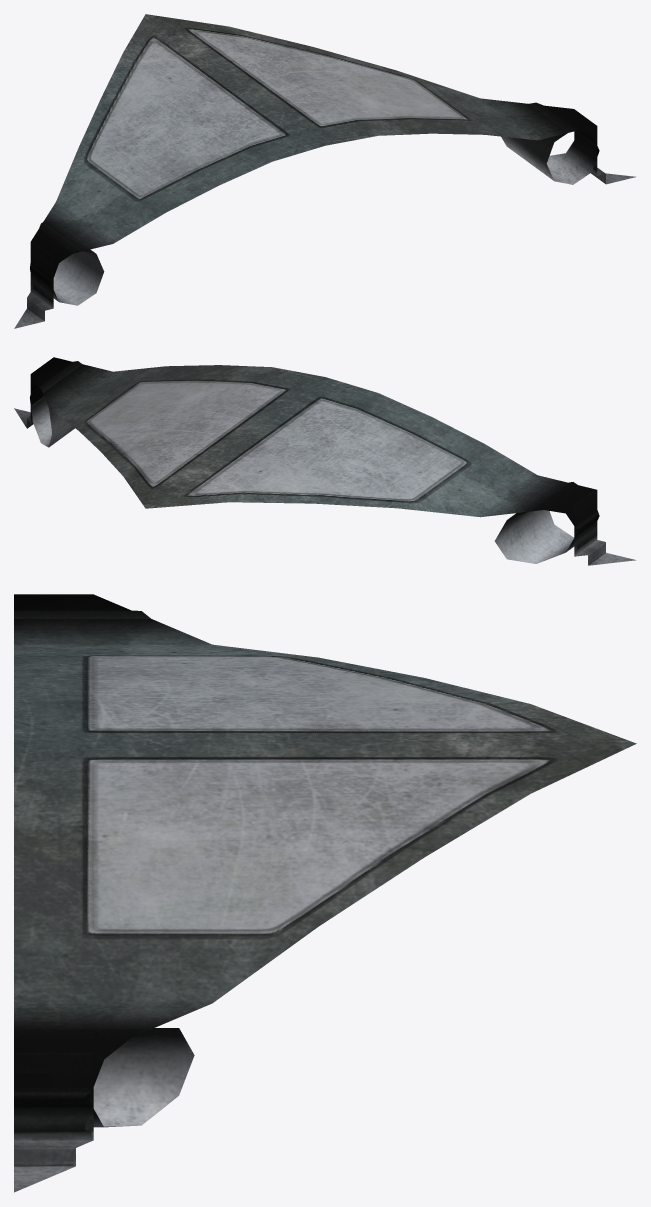
Rendered from Roof3.fbx.
3 renders of one model, top to bottom at view 1: azimuth 30°, elevation 25°; view 2: azimuth 150°, elevation 25°; view 3: azimuth 270°, elevation 25°, orthographic. The views are drawn at different scales.
Parts seen in each view (by area): view 1: Roof3; view 2: Roof3; view 3: Roof3.
Boxes of the visible parts, bbox=[...] form: Roof3: bbox=[14, 14, 635, 328]; Roof3: bbox=[14, 357, 636, 565]; Roof3: bbox=[14, 594, 636, 1192].
Bounding box in the file's own units: 200 × 32.88 × 100.
